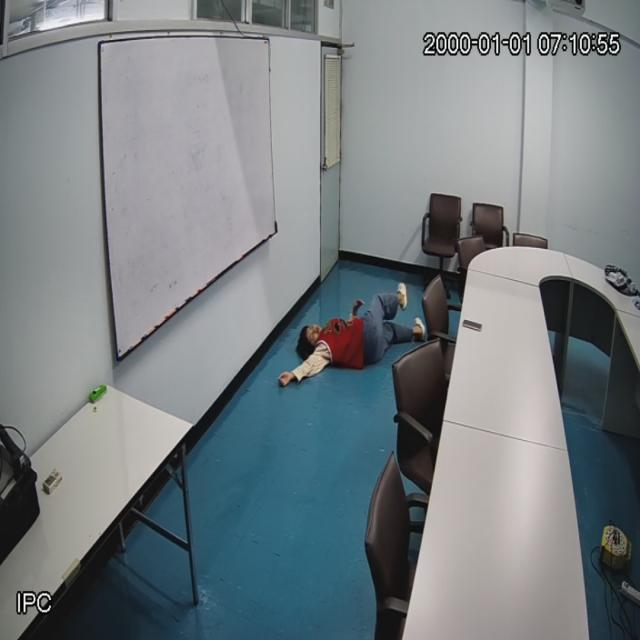fall: (289, 283, 407, 372)
